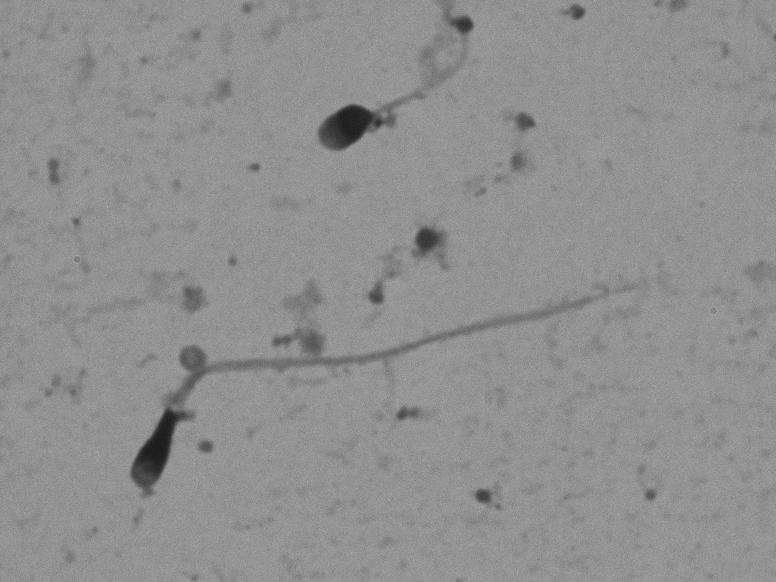Abnormal: (75, 272, 678, 518), (287, 11, 506, 166)
